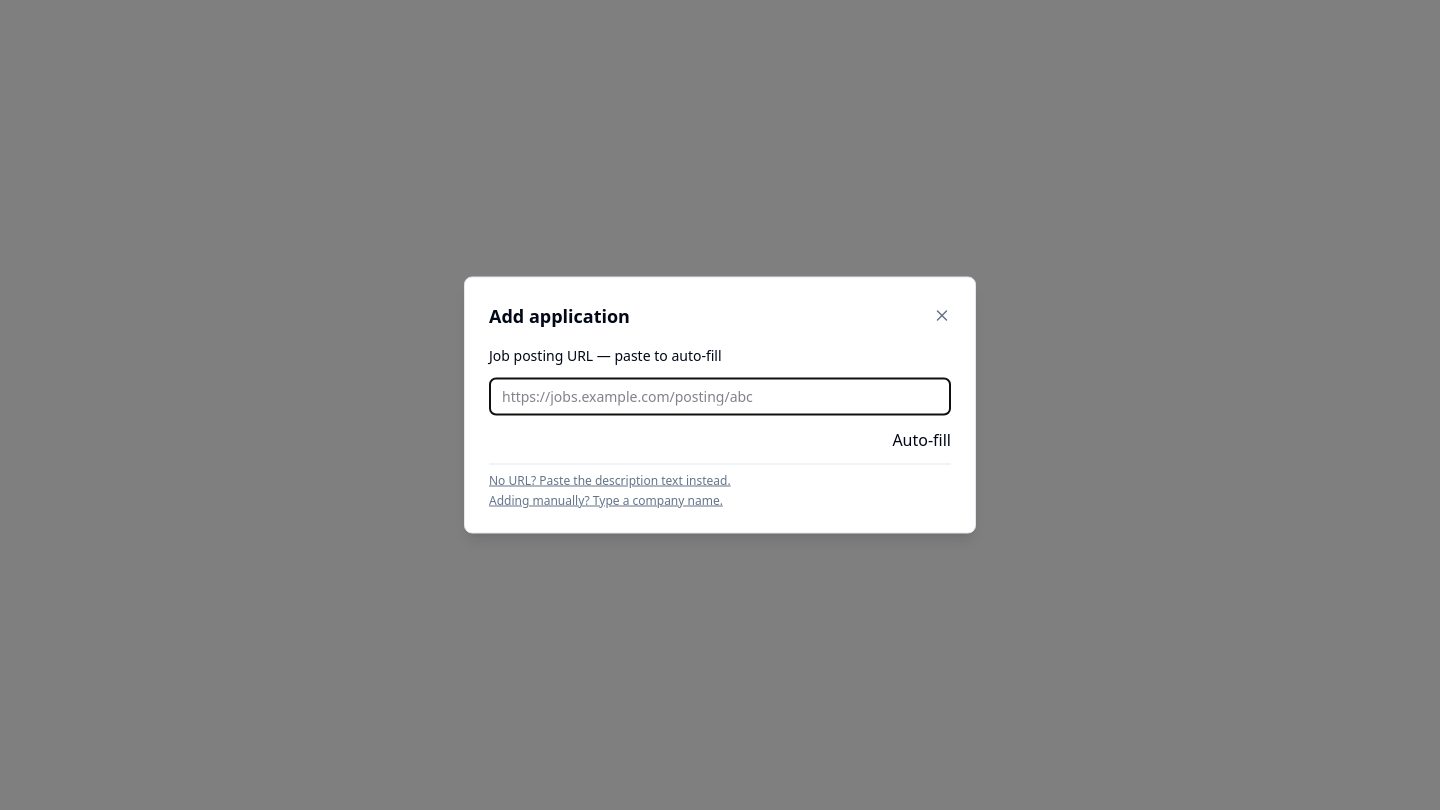
Test case: AddApplicationDialog — URL happy path › URL → extract → review: pre-fills role title and shows tracked-company pill
In the field labelled "Job posting URL — paste to auto-fill": (720, 396) x1=489 y1=378 x2=951 y2=416, type "https://jobs.example.com/x"
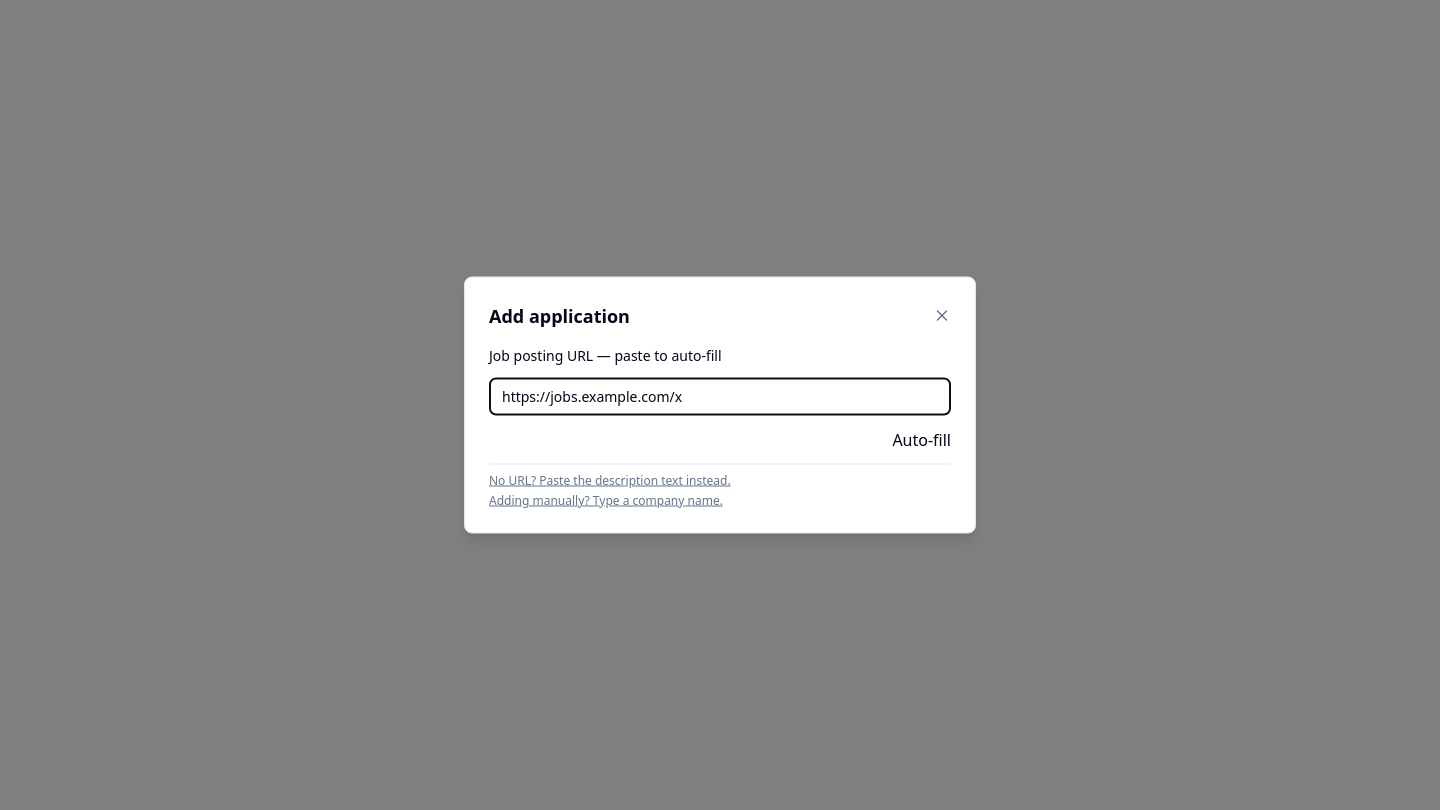
Click the button "Auto-fill": (922, 440) x1=892 y1=428 x2=951 y2=452
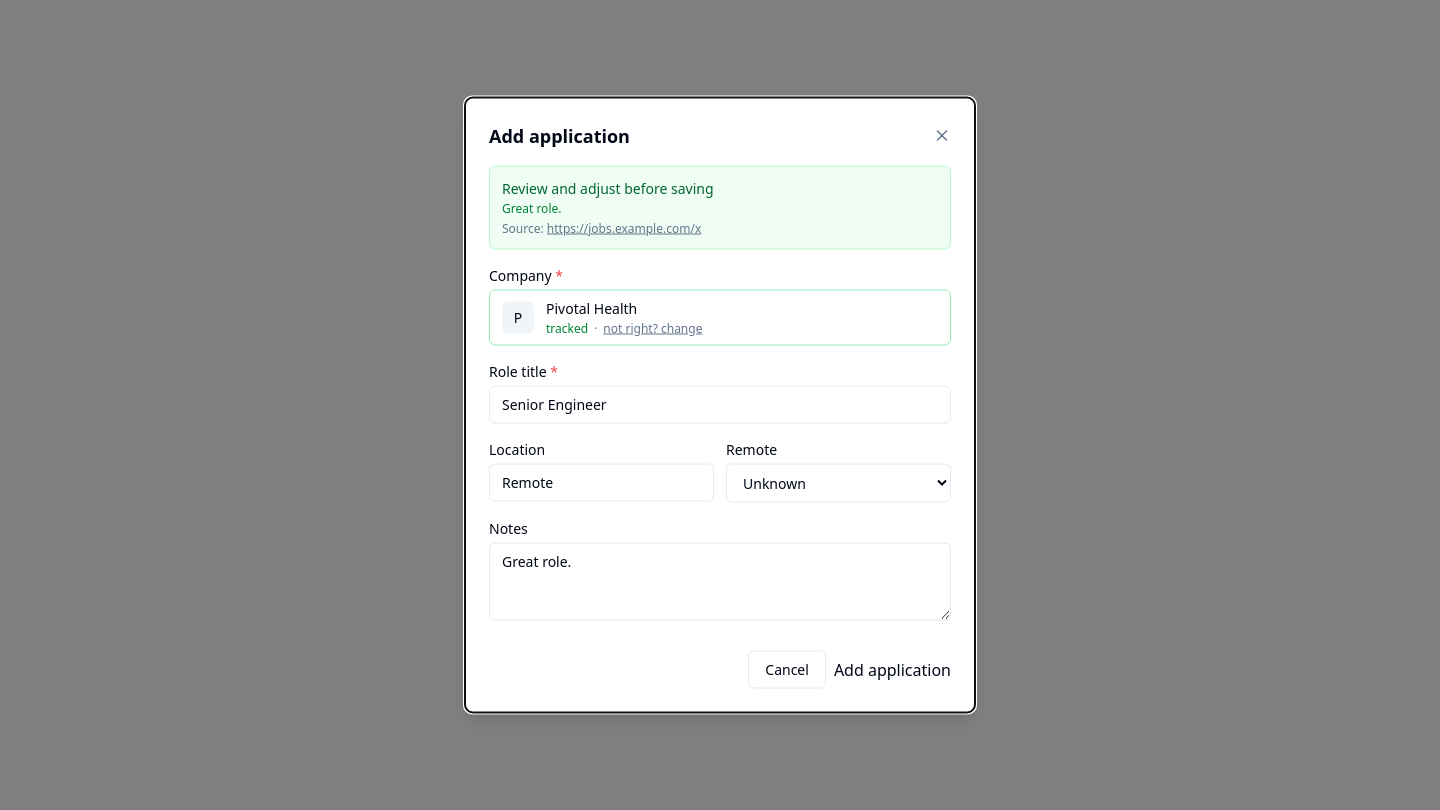
Result: the text "Review and adjust before saving" is shown at x1=502 y1=178 x2=714 y2=198
Result: the text "Pivotal Health" is shown at x1=546 y1=298 x2=637 y2=318
Result: the text "tracked" is shown at x1=546 y1=320 x2=588 y2=336
